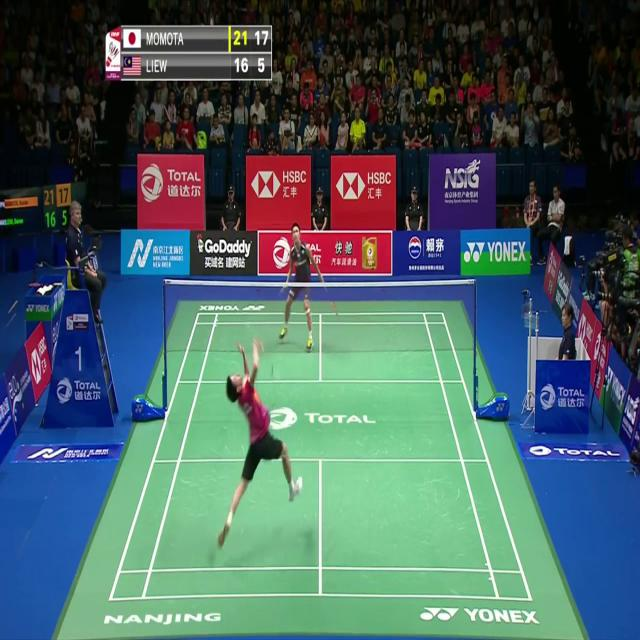Shuttlecock: (208, 15, 214, 26)
